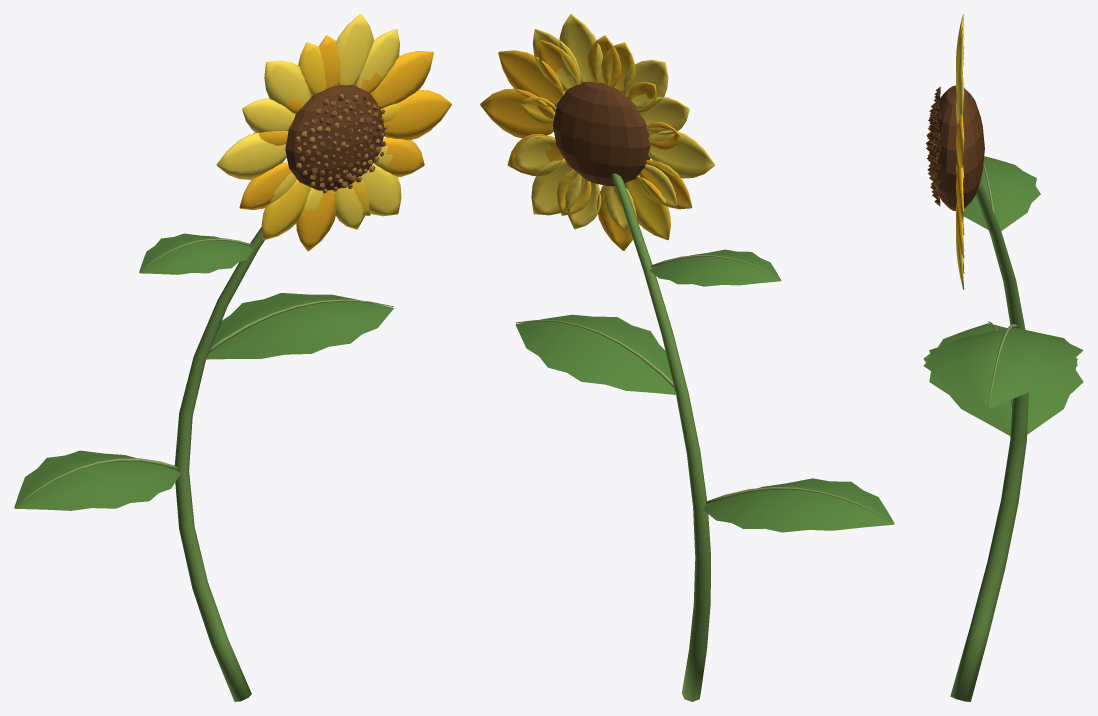
Rendered from sunflower-v2-bloom-2-1.glb.
3 views of the same model, side by side, from view 1: azimuth 30°, elevation 25°; view 2: azimuth 150°, elevation 25°; view 3: azimuth 270°, elevation 25° (orthographic). The views are drawn at different scales.
Visible parts, largest first — view 1: Curved tapered stem; view 2: Curved tapered stem; view 3: Curved tapered stem.
Part boxes in pixels (<box>): Curved tapered stem: <box>14,14,451,701</box>; Curved tapered stem: <box>480,14,894,701</box>; Curved tapered stem: <box>923,14,1083,701</box>.
Size of the model in its own units: 0.4487 by 0.6612 by 0.1317.
